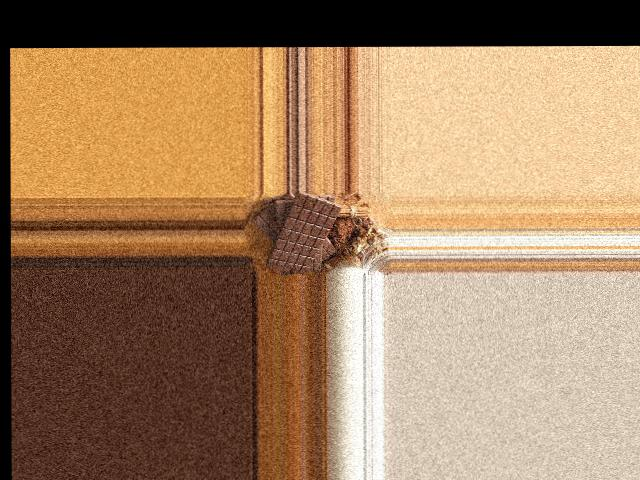chocolate: (264, 192, 346, 272)
